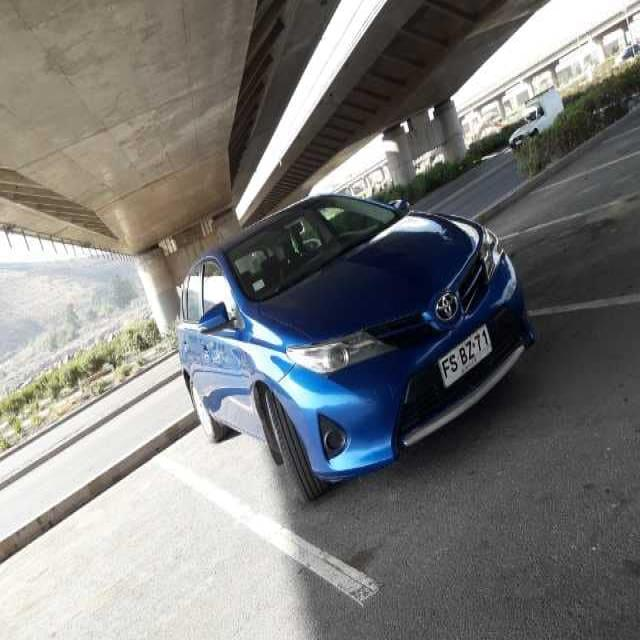patente: (437, 323, 493, 388)
